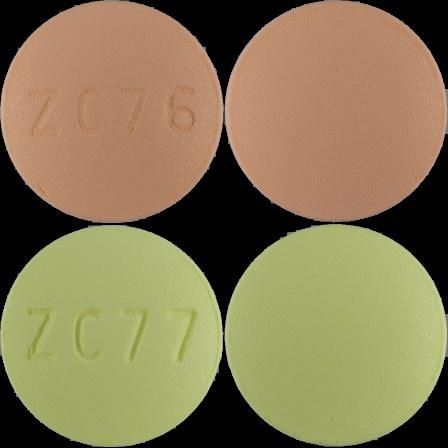50268-697: (0, 0, 224, 224)
